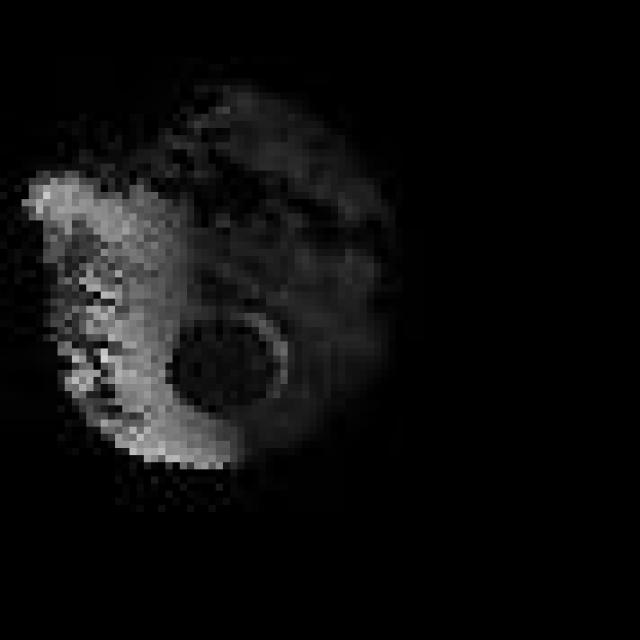Death Star: (7, 64, 410, 498)
